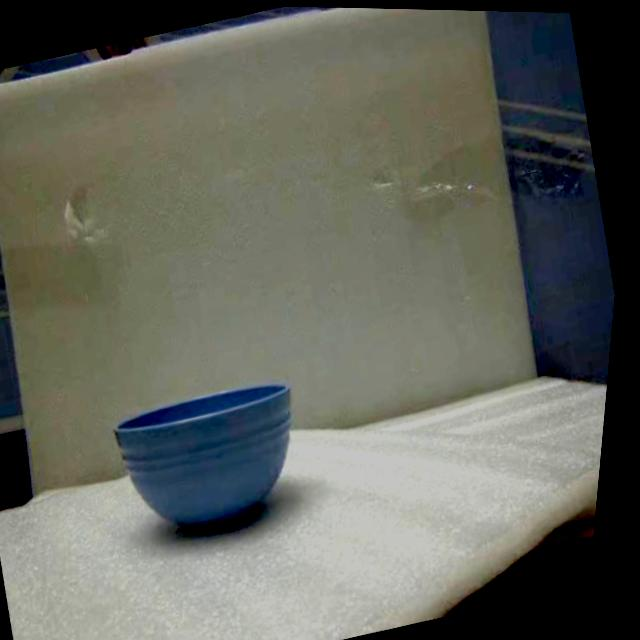Bowl: (115, 385, 291, 529)
